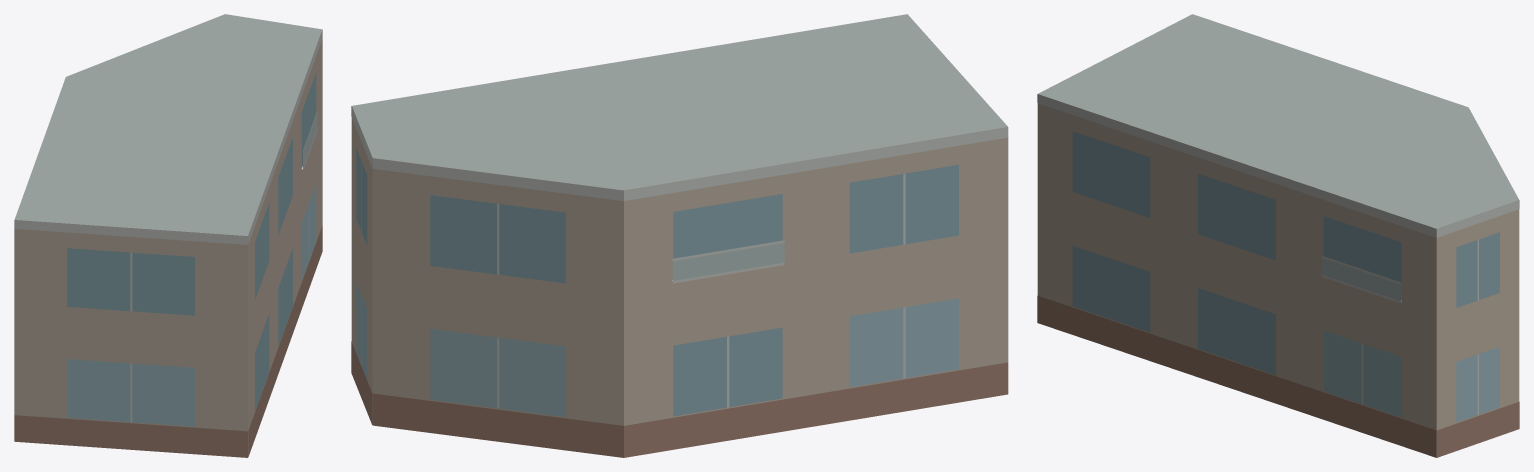
The model's file is survey-upis-32726211.glb.
3 views of the same model, side by side, from view 1: azimuth 30°, elevation 25°; view 2: azimuth 150°, elevation 25°; view 3: azimuth 270°, elevation 25° (orthographic). The views are drawn at different scales.
Visible parts, largest first — view 1: survey-upis-32726211.tmp; view 2: survey-upis-32726211.tmp; view 3: survey-upis-32726211.tmp.
Boxes of the visible parts, x1=… form: survey-upis-32726211.tmp: x1=14, y1=14, x2=322, y2=457; survey-upis-32726211.tmp: x1=351, y1=14, x2=1008, y2=457; survey-upis-32726211.tmp: x1=1037, y1=14, x2=1519, y2=457.
Bounding box in the file's own units: 12.28 × 6.1 × 11.64.
